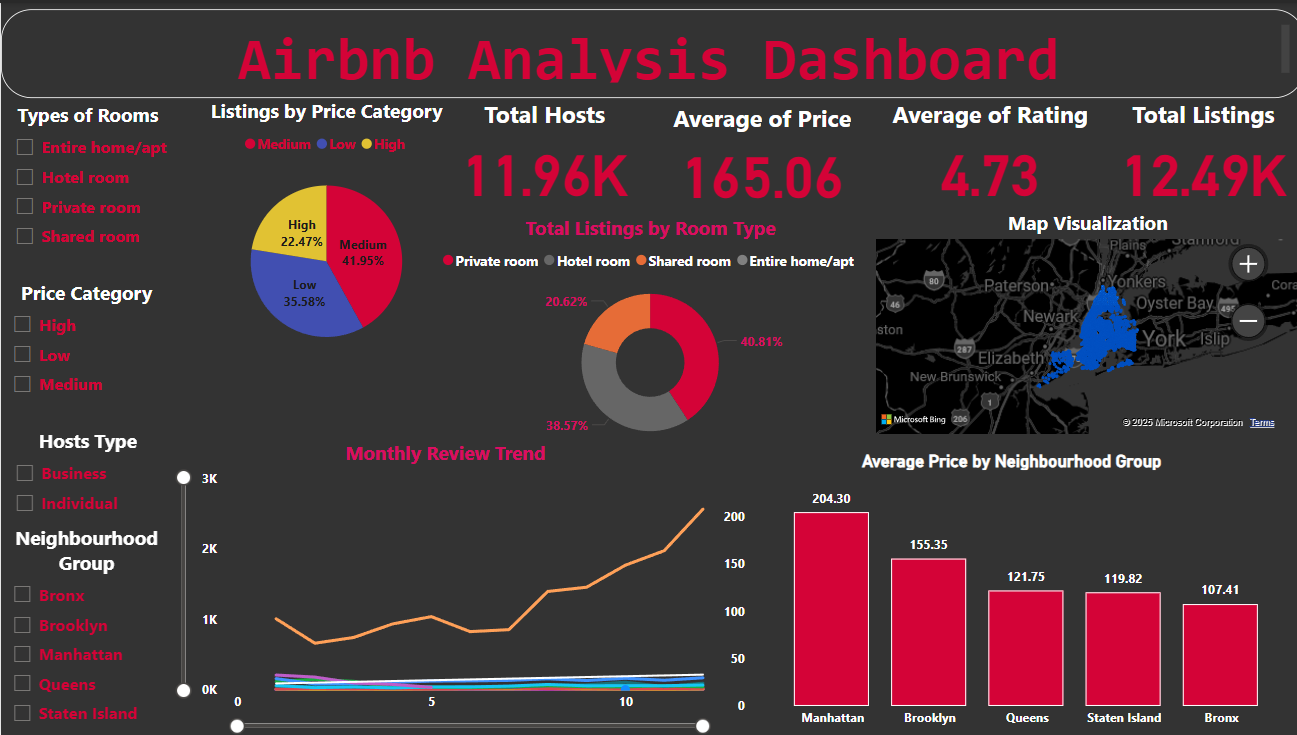

Layout of this report page (visuals, bound fields, positions):
{"tool":"powerbi","page":{"name":"Page 1","canvas":[1280,720],"ordinal":0},"visuals":[{"type":"card","title":"Average of Price","fields":{"Values":["Avg(Airbnb_for_PowerBI_Cleaned.price)"]},"box":[640.5,96.9,213.5,105.5],"z":0},{"type":"card","title":"Total Listings","fields":{"Values":["Count(Airbnb_for_PowerBI_Cleaned.id)"]},"box":[1081,93.3,198.8,109.2],"z":1000},{"type":"card","title":"Average of Rating","fields":{"Values":["Avg(Airbnb_for_PowerBI_Cleaned.rating)"]},"box":[861.4,93.3,219.6,109.2],"z":2000},{"type":"card","title":"Total Hosts","fields":{"Values":["Count(Airbnb_for_PowerBI_Cleaned.host_id)"]},"box":[427,93.3,213.5,109.2],"z":3000},{"type":"donutChart","title":"Total Listings by Room Type","fields":{"Category":["Airbnb_for_PowerBI_Cleaned.room_type"],"Y":["Sum(Airbnb_for_PowerBI_Cleaned.id)"]},"box":[420.9,207.4,433.1,236.8],"z":4000},{"type":"clusteredColumnChart","title":"Average Price by Neighbourhood Group","fields":{"Category":["Airbnb_for_PowerBI_Cleaned.neighbourhood_group"],"Y":["Avg(Airbnb_for_PowerBI_Cleaned.price)"]},"box":[704.3,439.3,575.5,281],"z":5000},{"type":"pieChart","title":"Listings by Price Category","fields":{"Category":["Airbnb_for_PowerBI_Cleaned.price_category"],"Y":["CountNonNull(Airbnb_for_PowerBI_Cleaned.calculated_host_listings_count)"]},"box":[168.1,93.3,303.1,266.3],"z":6000},{"type":"lineChart","title":"Monthly Review Trend","fields":{"Category":["Airbnb_for_PowerBI_Cleaned.last_review_month"],"Y":["CountNonNull(Airbnb_for_PowerBI_Cleaned.id)"],"Series":["Airbnb_for_PowerBI_Cleaned.last_review_year"]},"box":[168.1,428.2,536.2,292],"z":7000},{"type":"map","title":"Map Visualization","fields":{"Y":["Airbnb_for_PowerBI_Cleaned.latitude"],"X":["Airbnb_for_PowerBI_Cleaned.longitude"]},"box":[854,202.5,425.8,225.8],"z":8000},{"type":"slicer","title":"Types of Rooms","fields":{"Values":["Airbnb_for_PowerBI_Cleaned.room_type"]},"box":[2.5,96.9,165.6,155.8],"z":9000},{"type":"slicer","title":"Price Category","fields":{"Values":["Airbnb_for_PowerBI_Cleaned.price_category"]},"box":[0,271.2,168.1,123.9],"z":10000},{"type":"slicer","title":"Hosts Type","fields":{"Values":["Airbnb_for_PowerBI_Cleaned.host_type"]},"box":[2.5,417.2,165.6,94.5],"z":11000},{"type":"slicer","title":"Neighbourhood Group","fields":{"Values":["Airbnb_for_PowerBI_Cleaned.neighbourhood_group"]},"box":[0,511.7,168.1,208.6],"z":12000},{"type":"textbox","box":[0,6.1,1279.8,87.1],"z":13000}]}

Visuals, with their boxes in screenshot pixels (x1, y1, x2, y2), scaled from the page's 1280x720 canvas onto the 1297x735 screenshot:
"Average of Price" card: rect(649, 99, 865, 207)
"Total Listings" card: rect(1095, 95, 1296, 207)
"Average of Rating" card: rect(873, 95, 1095, 207)
"Total Hosts" card: rect(433, 95, 649, 207)
"Total Listings by Room Type" donutChart: rect(426, 212, 865, 453)
"Average Price by Neighbourhood Group" clusteredColumnChart: rect(714, 448, 1296, 734)
"Listings by Price Category" pieChart: rect(170, 95, 477, 367)
"Monthly Review Trend" lineChart: rect(170, 437, 714, 734)
"Map Visualization" map: rect(865, 207, 1296, 437)
"Types of Rooms" slicer: rect(3, 99, 170, 258)
"Price Category" slicer: rect(0, 277, 170, 403)
"Hosts Type" slicer: rect(3, 426, 170, 522)
"Neighbourhood Group" slicer: rect(0, 522, 170, 734)
textbox: rect(0, 6, 1296, 95)
